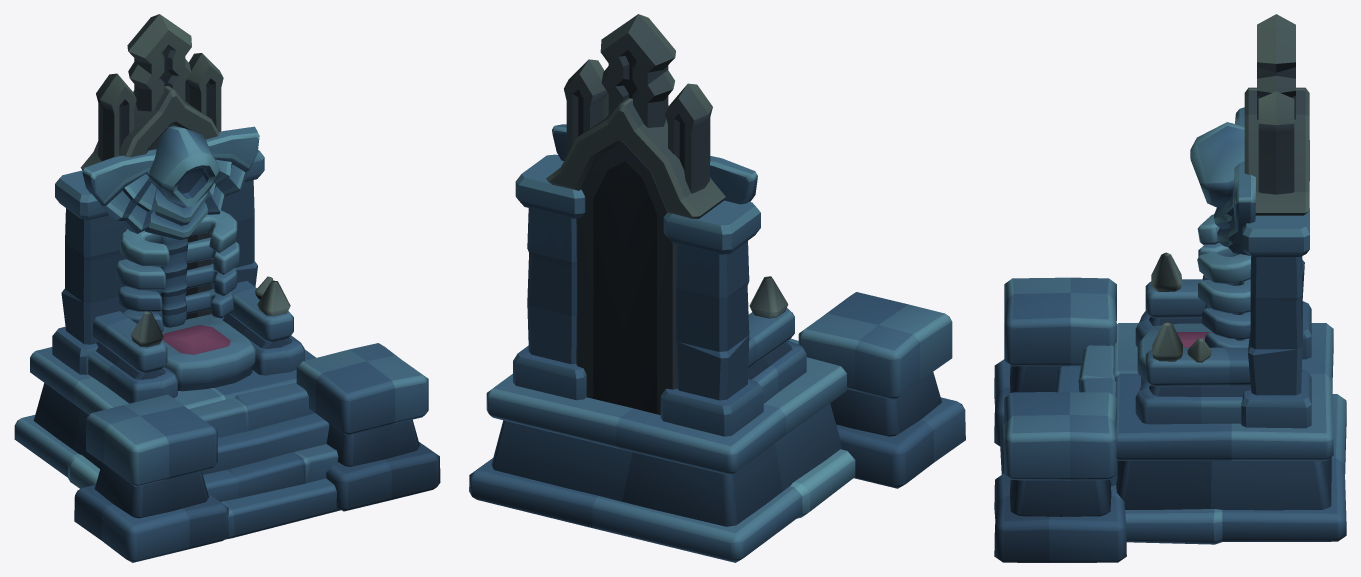
Rendered from throne.fbx.
3 renders of one model, left to right at view 1: azimuth 30°, elevation 25°; view 2: azimuth 150°, elevation 25°; view 3: azimuth 270°, elevation 25°, orthographic. The views are drawn at different scales.
Parts seen in each view (by area): view 1: throne; view 2: throne; view 3: throne.
Boxes of the visible parts, x1=… form: throne: x1=14, y1=14, x2=440, y2=562; throne: x1=469, y1=14, x2=965, y2=562; throne: x1=994, y1=14, x2=1346, y2=562.
Bounding box in the file's own units: 373 × 481 × 327.
